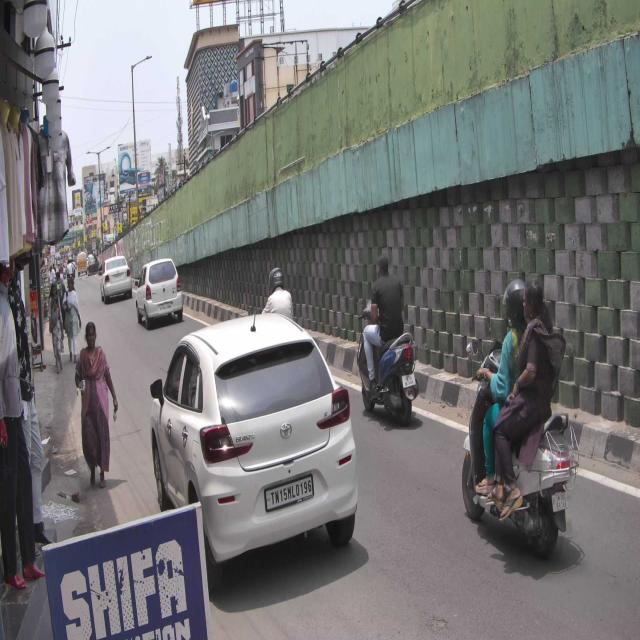double_rider: (461, 272, 576, 554)
single_rider: (356, 255, 419, 428)
